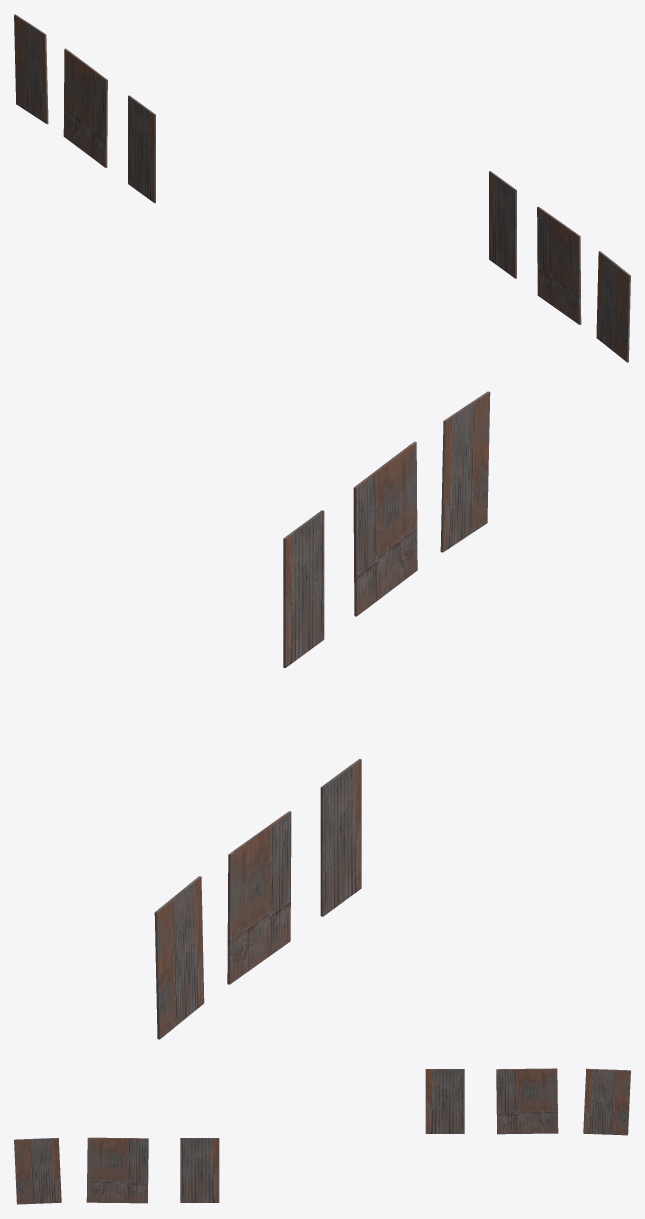
The model's file is SM_NeoLD_11_Toles_00.fbx.
The picture shows the model from 3 angles, top to bottom: view 1: azimuth 30°, elevation 25°; view 2: azimuth 150°, elevation 25°; view 3: azimuth 270°, elevation 25°; orthographic projection. The views are drawn at different scales.
Visible parts, largest first — view 1: SM_NeoLD_11_Toles_00; view 2: SM_NeoLD_11_Toles_00; view 3: SM_NeoLD_11_Toles_00.
Part boxes in pixels (x1,y1,x2,y2): SM_NeoLD_11_Toles_00: (14, 14, 630, 362); SM_NeoLD_11_Toles_00: (154, 391, 490, 1039); SM_NeoLD_11_Toles_00: (14, 1068, 630, 1204).
Bounding box in the file's own units: 764 × 339 × 2852.
